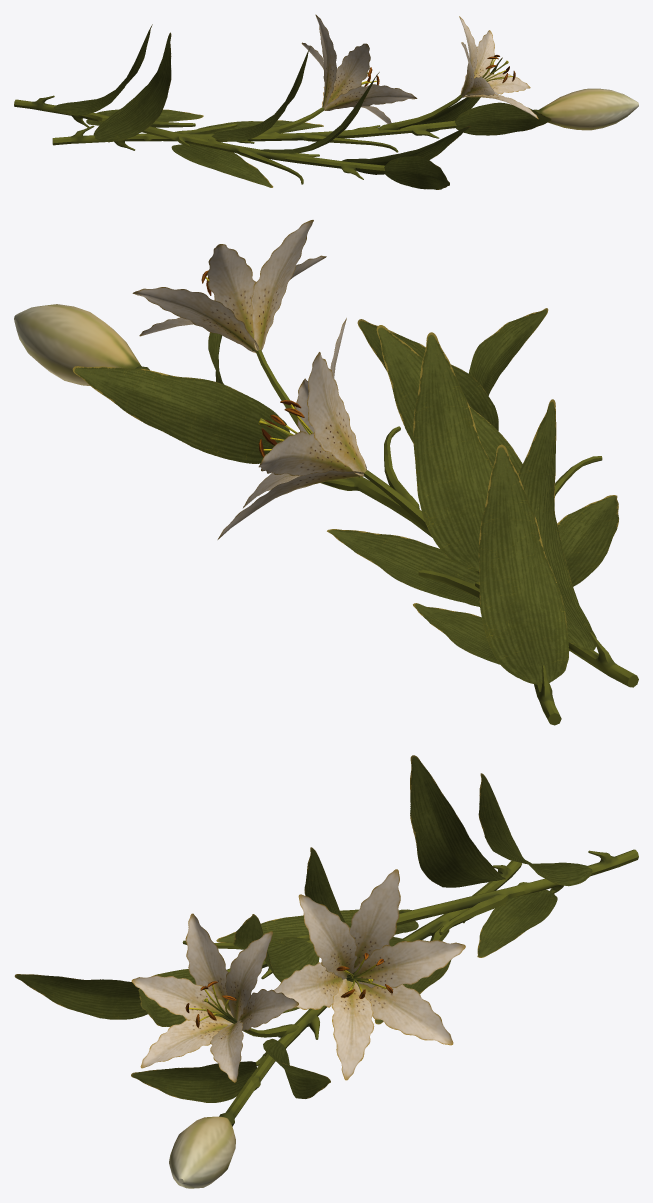
The model's file is lilies-bouquet.glb.
3 views of the same model, one above another, from view 1: azimuth 30°, elevation 25°; view 2: azimuth 150°, elevation 25°; view 3: azimuth 270°, elevation 25° (orthographic). The views are drawn at different scales.
Parts seen in each view (by area): view 1: lilies-bouquet; view 2: lilies-bouquet; view 3: lilies-bouquet.
Part boxes in pixels (x1,y1,x2,y2): lilies-bouquet: (14, 14, 638, 189); lilies-bouquet: (14, 220, 638, 725); lilies-bouquet: (14, 755, 638, 1188).
Size of the model in its own units: 0.5831 by 0.1527 by 0.465.
Materials: 1 (1 with a texture image).
